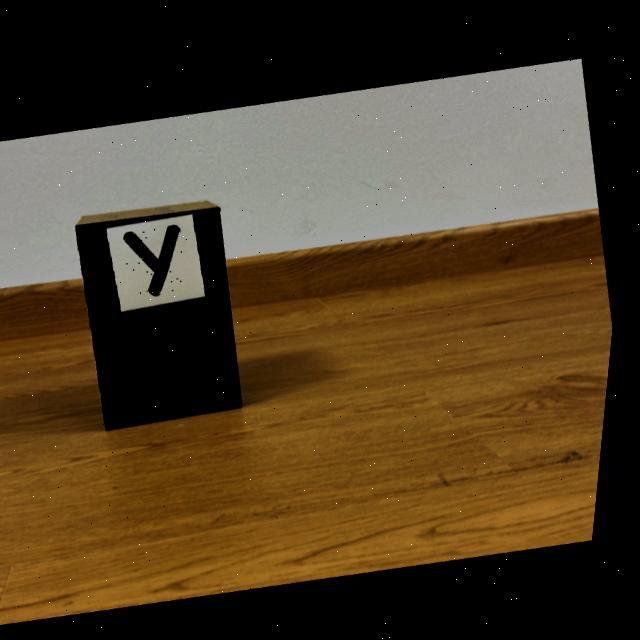Y: (128, 222, 184, 292)
